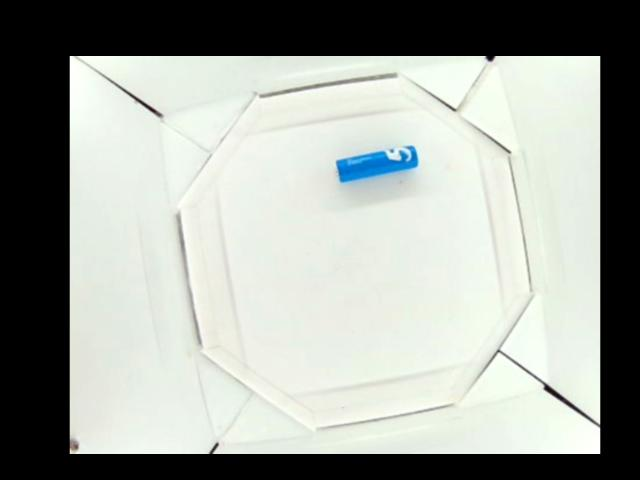Battery: (335, 143, 420, 182)
